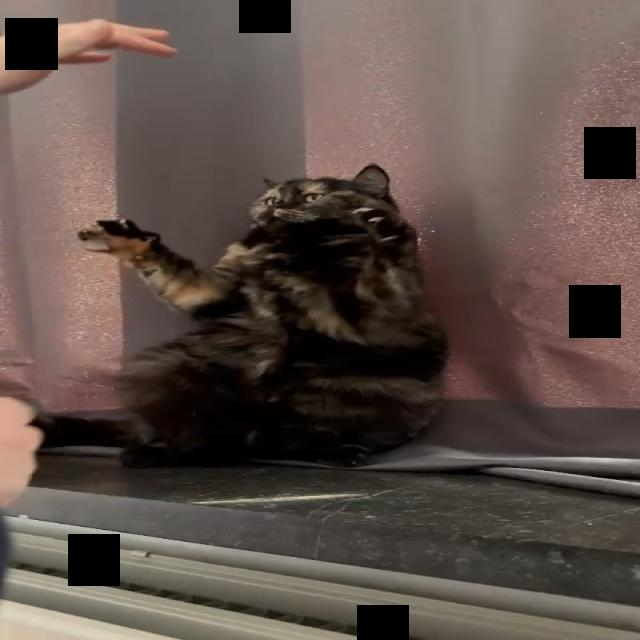authorized: (54, 162, 450, 469)
